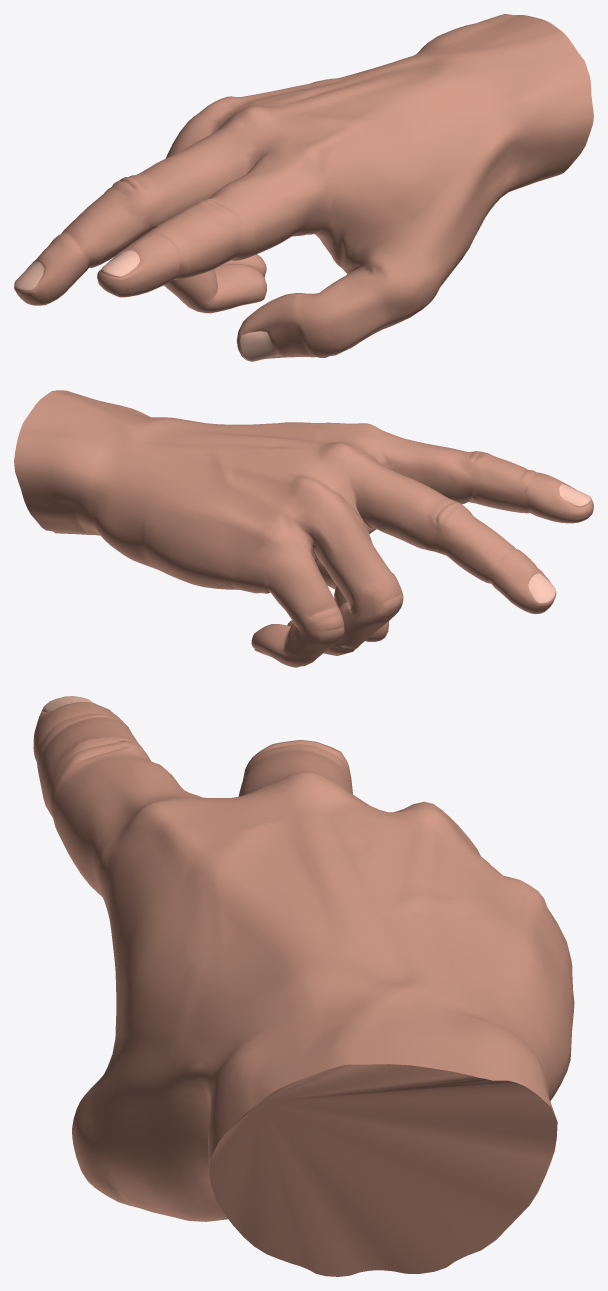
The model's file is hand_35.obj.
The picture shows the model from 3 angles, top to bottom: view 1: azimuth 30°, elevation 25°; view 2: azimuth 150°, elevation 25°; view 3: azimuth 270°, elevation 25°; orthographic projection. The views are drawn at different scales.
Visible parts, largest first — view 1: Figure_2; view 2: Figure_2; view 3: Figure_2.
Boxes of the visible parts, x1,y1,x2,y2 form: Figure_2: (14, 14, 593, 361); Figure_2: (14, 390, 593, 667); Figure_2: (33, 696, 574, 1276).
Size of the model in its own units: 0.8817 by 0.3514 by 0.4202.
